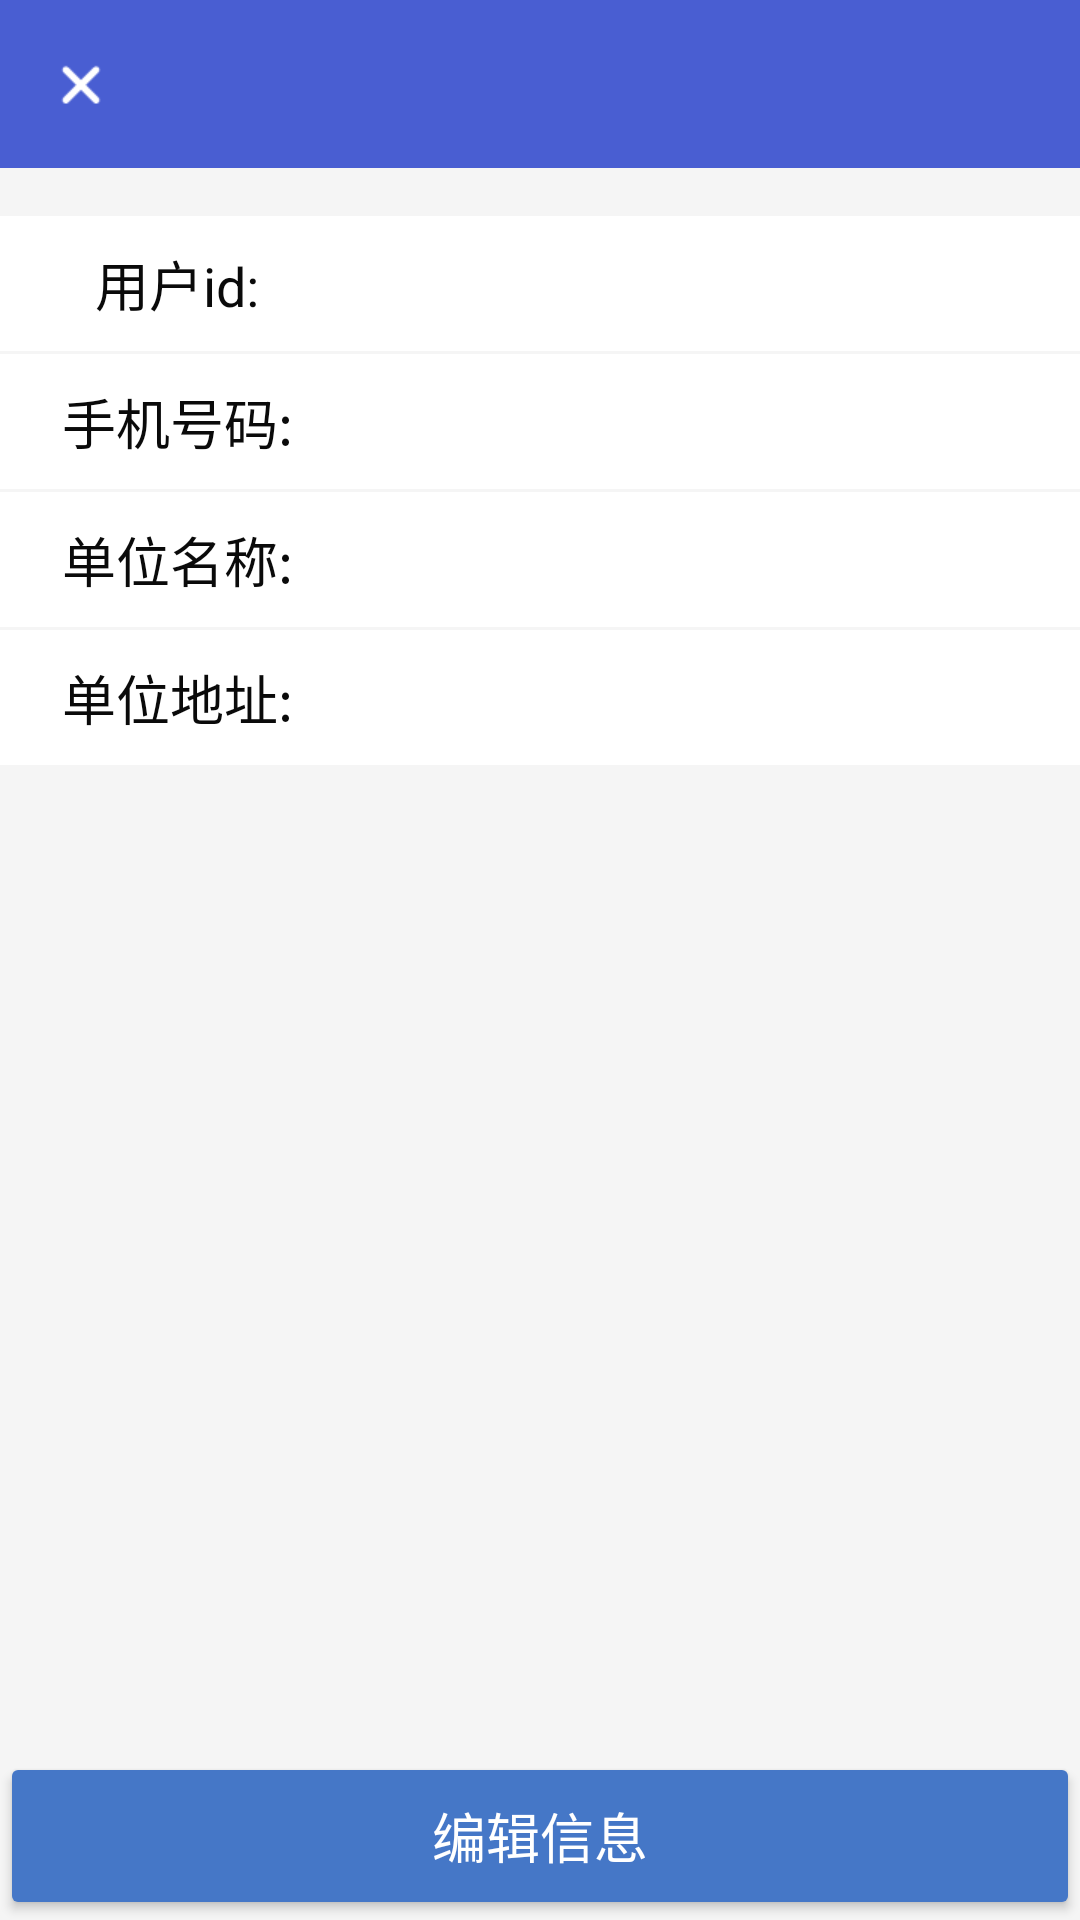

Icon bounding boxes for this 1080*1920 phone screenshot, format bbox=(x1, y1, x2, y2):
cancel: bbox=(62, 66, 100, 104)
